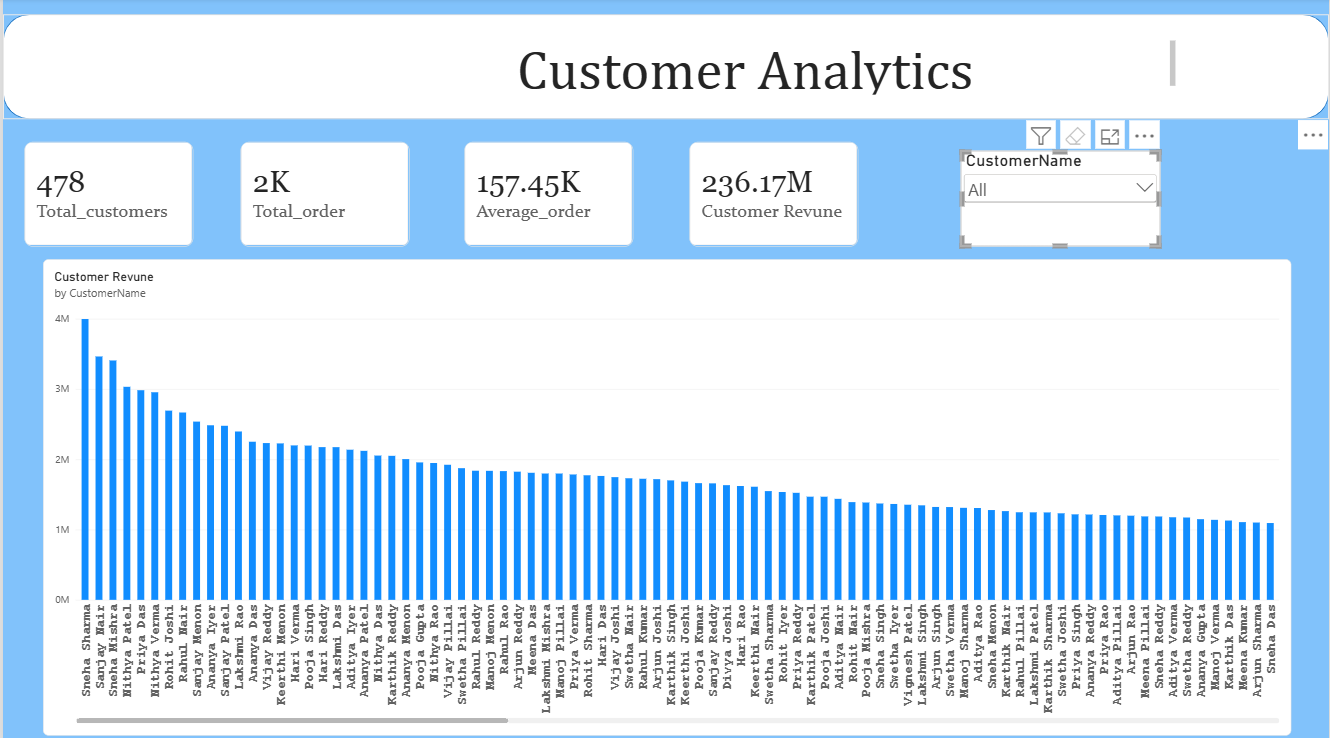

The dashboard page shown, as its layout file describes it:
{"tool":"powerbi","page":{"name":"Customer Analytics","canvas":[1920,1080],"ordinal":2},"visuals":[{"type":"shape","box":[0,23.2,1919.6,151.8],"z":0},{"type":"textbox","box":[744.6,60.7,953.6,78.6],"z":1000},{"type":"cardVisual","fields":{"Data":["OrderItems.Total_customers"]},"box":[30.4,208.9,244.6,151.8],"z":1001},{"type":"cardVisual","fields":{"Data":["OrderItems.Total_order"]},"box":[344.6,208.9,244.6,151.8],"z":1002},{"type":"cardVisual","fields":{"Data":["OrderItems.Average_order"]},"box":[667.9,208.9,244.6,151.8],"z":1003},{"type":"cardVisual","fields":{"Data":["OrderItems.Customer Revune"]},"box":[992.9,208.9,244.6,151.8],"z":1004},{"type":"columnChart","fields":{"Category":["Customers.CustomerName"],"Y":["OrderItems.Customer Revune"]},"box":[57.1,378.6,1807.1,689.3],"z":1005},{"type":"slicer","fields":{"Values":["Customers.CustomerName"]},"box":[1385.7,221.4,289.3,139.3],"z":1006}]}

Visuals, with their boxes on the page's 1920x1080 design canvas (x1, y1, x2, y2). These are canvas units, not pixel positions in the 1330x738 screenshot, which may show the page scaled, cropped or inside an application window:
shape: <bbox>0, 23, 1920, 175</bbox>
textbox: <bbox>745, 61, 1698, 139</bbox>
cardVisual - OrderItems.Total_customers: <bbox>30, 209, 275, 361</bbox>
cardVisual - OrderItems.Total_order: <bbox>345, 209, 589, 361</bbox>
cardVisual - OrderItems.Average_order: <bbox>668, 209, 912, 361</bbox>
cardVisual - OrderItems.Customer Revune: <bbox>993, 209, 1238, 361</bbox>
columnChart - Customers.CustomerName x OrderItems.Customer Revune: <bbox>57, 379, 1864, 1068</bbox>
slicer - Customers.CustomerName: <bbox>1386, 221, 1675, 361</bbox>
